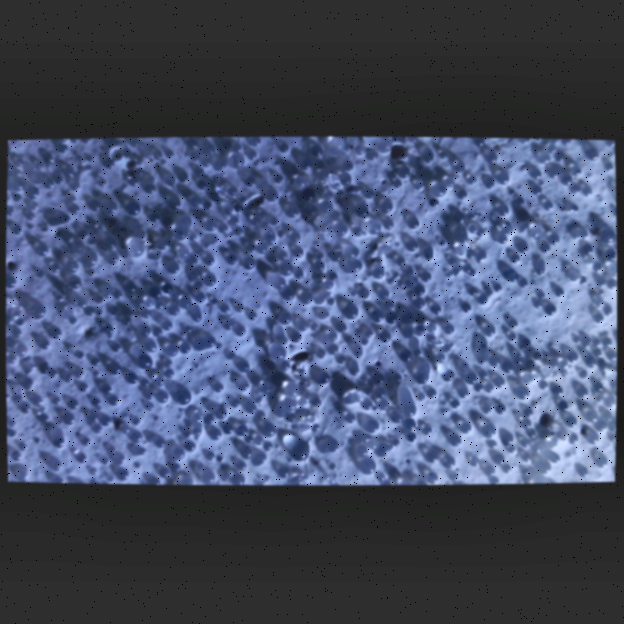GrassBeadSeg: (13, 174, 575, 451), (16, 153, 493, 476), (37, 185, 543, 461), (143, 188, 588, 472), (24, 215, 578, 443), (101, 161, 533, 448), (81, 137, 493, 414), (204, 153, 551, 481), (131, 178, 602, 415), (227, 152, 586, 447), (81, 136, 482, 395), (19, 149, 407, 413), (205, 218, 609, 468), (112, 261, 589, 464), (129, 232, 577, 442), (241, 188, 587, 459), (213, 138, 515, 442), (225, 141, 544, 426), (35, 233, 557, 405), (22, 214, 568, 377), (16, 226, 453, 429), (126, 207, 605, 392), (105, 205, 510, 422), (155, 238, 560, 455), (128, 189, 438, 459), (328, 165, 599, 470), (138, 151, 497, 381), (48, 288, 488, 471), (285, 167, 562, 454), (287, 165, 583, 421), (176, 227, 485, 467), (88, 215, 369, 475), (120, 177, 454, 392), (236, 197, 534, 435), (203, 200, 474, 459), (295, 140, 572, 391), (140, 171, 510, 354), (140, 203, 600, 347), (86, 239, 614, 359), (25, 210, 387, 384), (90, 323, 517, 470), (149, 212, 506, 387), (48, 303, 442, 461), (278, 242, 550, 469), (311, 148, 497, 476), (279, 200, 554, 421), (126, 204, 385, 433), (15, 157, 312, 355), (102, 144, 322, 410), (109, 305, 481, 461), (205, 287, 500, 483), (329, 219, 612, 420), (12, 269, 306, 461), (106, 147, 599, 261), (71, 160, 326, 379), (157, 148, 396, 381), (318, 243, 608, 431), (365, 148, 532, 462), (11, 200, 393, 336), (173, 228, 483, 392), (50, 325, 498, 437), (179, 302, 577, 426), (329, 253, 552, 473), (13, 295, 468, 397), (116, 361, 514, 477), (146, 199, 435, 351), (124, 164, 466, 292), (147, 321, 417, 481), (358, 184, 593, 365), (175, 245, 485, 378), (77, 315, 606, 392), (110, 253, 523, 351), (278, 244, 593, 370), (293, 181, 488, 377), (315, 204, 553, 358), (281, 216, 605, 322), (219, 304, 558, 400), (189, 198, 425, 335), (167, 233, 560, 315), (162, 283, 479, 384), (262, 356, 598, 451), (284, 206, 474, 373), (175, 222, 306, 459), (390, 176, 613, 315), (103, 203, 234, 438), (389, 298, 605, 429), (404, 239, 569, 410), (67, 277, 282, 404), (164, 346, 376, 474), (412, 182, 506, 463), (196, 339, 390, 474), (403, 158, 607, 286), (107, 188, 315, 310), (165, 261, 359, 391), (137, 353, 418, 441), (378, 253, 515, 433), (243, 181, 336, 443), (227, 272, 503, 360), (271, 178, 485, 289), (335, 222, 481, 384), (30, 232, 293, 318), (118, 370, 323, 479), (105, 323, 432, 387), (313, 308, 508, 414), (279, 263, 456, 376), (155, 398, 461, 462), (148, 212, 310, 331), (173, 313, 383, 404), (488, 137, 571, 366), (378, 323, 501, 465), (68, 195, 203, 324), (341, 308, 462, 446), (313, 310, 527, 388), (316, 136, 486, 233), (203, 273, 496, 327), (270, 284, 480, 359), (366, 244, 522, 344), (244, 313, 399, 412), (311, 396, 511, 472), (112, 341, 414, 391), (469, 251, 537, 465), (385, 312, 564, 389), (144, 330, 339, 400), (327, 343, 427, 478), (315, 370, 451, 467), (345, 269, 485, 363), (220, 150, 436, 210), (166, 334, 293, 436), (427, 388, 562, 483), (318, 200, 412, 332), (322, 189, 486, 262), (148, 334, 224, 483), (176, 261, 293, 354), (92, 423, 494, 448), (237, 347, 437, 397), (516, 339, 615, 440), (237, 264, 315, 390), (234, 311, 294, 471), (460, 337, 613, 394), (335, 267, 414, 376), (420, 392, 555, 452), (500, 370, 598, 452), (202, 136, 263, 265), (524, 225, 563, 426), (92, 165, 207, 230), (15, 406, 115, 480), (317, 302, 474, 348), (19, 257, 95, 347), (203, 277, 304, 342), (235, 202, 343, 262), (169, 137, 258, 206), (447, 248, 564, 298), (66, 152, 151, 220), (221, 218, 278, 318), (538, 137, 614, 209), (194, 241, 269, 309), (298, 423, 390, 478), (332, 149, 444, 194), (331, 137, 392, 215), (261, 422, 339, 482), (365, 303, 446, 360), (82, 424, 161, 480), (365, 372, 422, 448), (47, 258, 123, 314), (336, 218, 400, 283), (130, 379, 203, 434), (131, 138, 226, 180), (131, 414, 195, 475), (507, 229, 582, 281), (258, 233, 312, 304), (7, 258, 86, 306), (277, 465, 586, 477), (341, 143, 410, 196), (568, 258, 604, 356), (36, 353, 100, 408), (232, 323, 496, 336), (13, 169, 64, 234), (191, 196, 267, 239), (520, 372, 616, 406), (447, 176, 476, 276), (7, 192, 80, 231), (448, 221, 512, 264), (571, 228, 616, 289), (226, 222, 284, 269), (496, 336, 548, 388), (516, 412, 558, 475), (474, 211, 573, 237), (275, 170, 331, 215), (8, 343, 84, 376), (83, 199, 118, 266), (167, 199, 210, 253), (218, 143, 244, 232), (233, 375, 302, 408), (356, 444, 457, 466), (549, 336, 602, 377), (33, 394, 102, 424), (7, 407, 56, 448), (74, 203, 116, 249), (291, 362, 311, 454), (329, 266, 384, 299), (520, 421, 562, 463), (180, 405, 229, 439), (459, 211, 507, 244), (234, 437, 267, 484), (127, 372, 159, 419), (317, 225, 362, 258), (231, 401, 266, 443), (283, 287, 391, 300), (35, 142, 75, 177), (132, 136, 167, 173), (456, 213, 485, 257), (201, 426, 223, 482), (439, 150, 476, 183), (601, 162, 615, 241), (580, 372, 616, 402), (114, 448, 186, 462), (501, 188, 524, 231), (417, 371, 432, 435), (536, 355, 576, 379), (531, 149, 565, 177), (315, 252, 337, 291), (367, 271, 413, 288), (122, 296, 156, 318), (55, 412, 77, 445), (377, 296, 425, 310), (65, 250, 94, 272), (312, 176, 343, 196), (314, 290, 352, 304), (298, 390, 315, 421), (420, 251, 434, 282), (204, 252, 239, 264), (368, 438, 399, 449), (293, 441, 310, 459), (301, 292, 325, 304), (323, 437, 336, 451), (222, 471, 237, 483), (572, 229, 588, 239), (265, 386, 270, 390), (305, 397, 308, 402)
